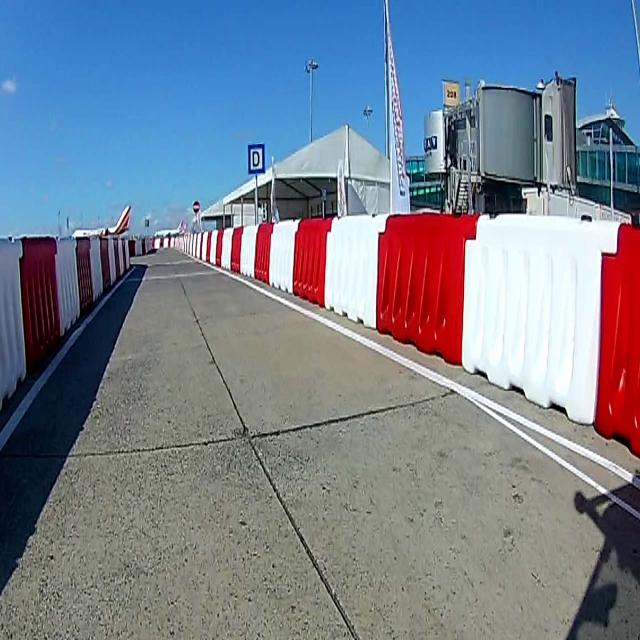durak: (248, 143, 266, 174)
girisyok: (192, 201, 201, 214)
